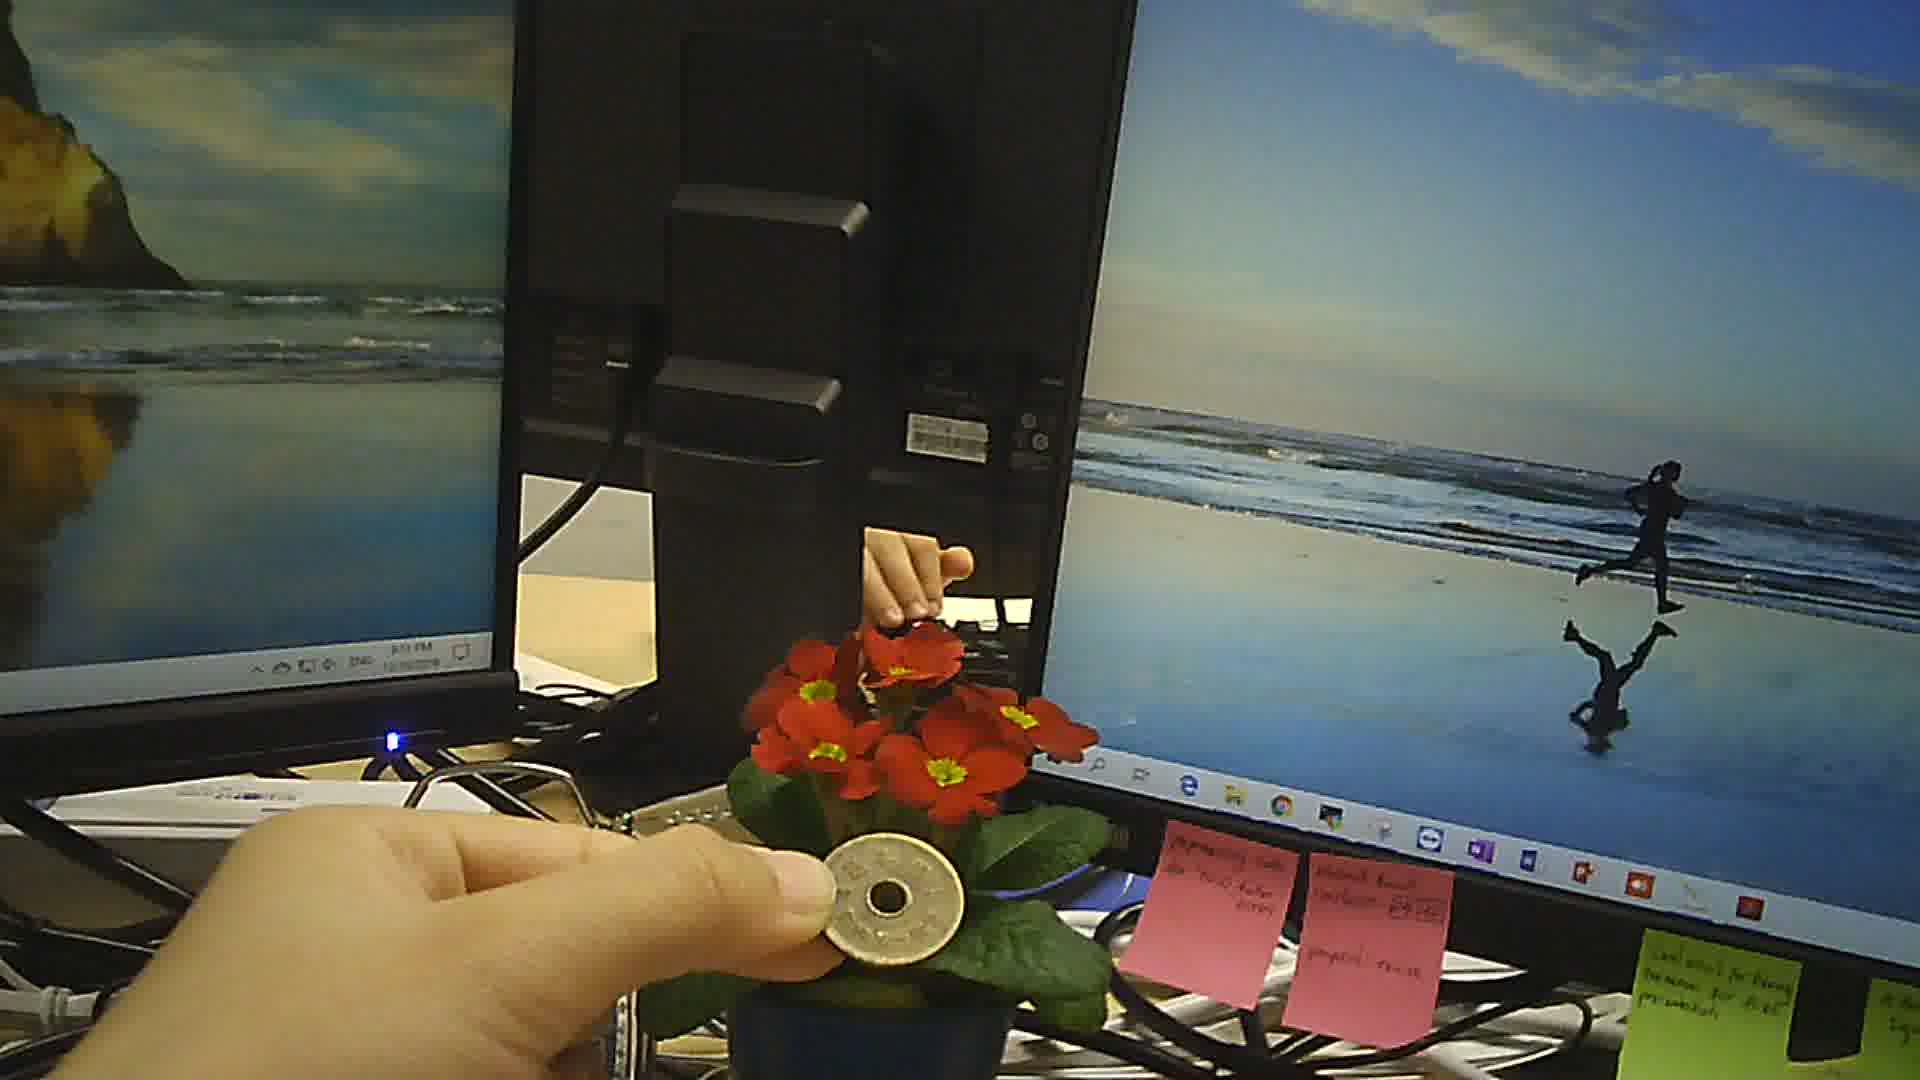5 Yen: (811, 825, 973, 965)
